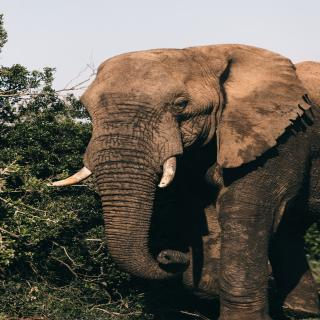Elephant: (49, 42, 320, 320)
